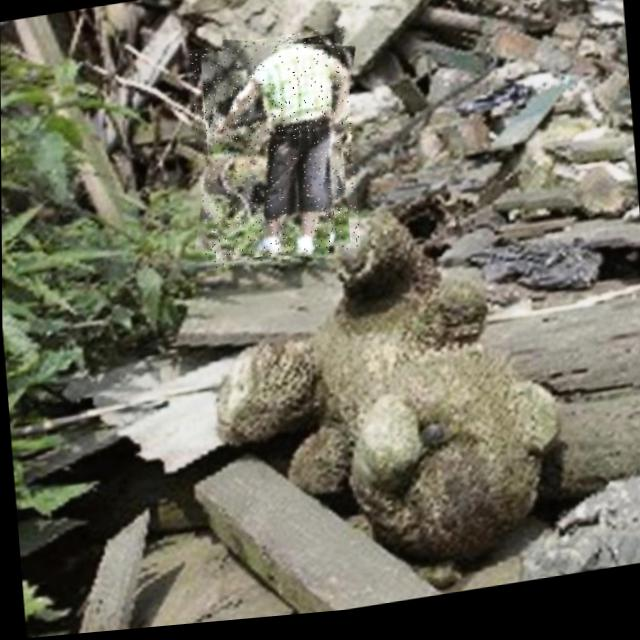Person in Rubble: (189, 31, 360, 276)
